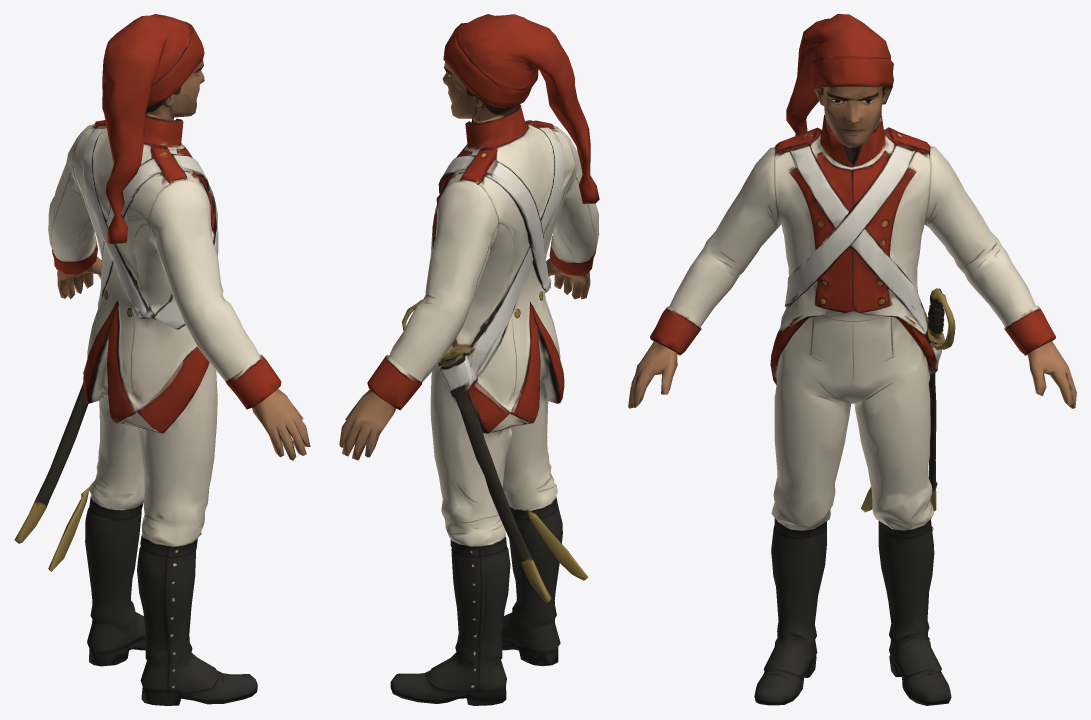
Rendered from e080c12c-2f2d-47d2-81a4-0d4828ec4403_model_url.glb.
3 views of the same model, side by side, from view 1: azimuth 30°, elevation 25°; view 2: azimuth 150°, elevation 25°; view 3: azimuth 270°, elevation 25° (orthographic).
Visible parts, largest first — view 1: tripo_node_e080c12c-2f2d-47d2-81a4-0d4828ec4403; view 2: tripo_node_e080c12c-2f2d-47d2-81a4-0d4828ec4403; view 3: tripo_node_e080c12c-2f2d-47d2-81a4-0d4828ec4403.
Boxes of the visible parts, box(x1,y1,x2,y2) form: tripo_node_e080c12c-2f2d-47d2-81a4-0d4828ec4403: box(14, 14, 310, 705); tripo_node_e080c12c-2f2d-47d2-81a4-0d4828ec4403: box(339, 14, 599, 705); tripo_node_e080c12c-2f2d-47d2-81a4-0d4828ec4403: box(628, 14, 1076, 705).
Size of the model in its own units: 0.2523 by 1 by 0.6173.
1 material, 1 textured.
